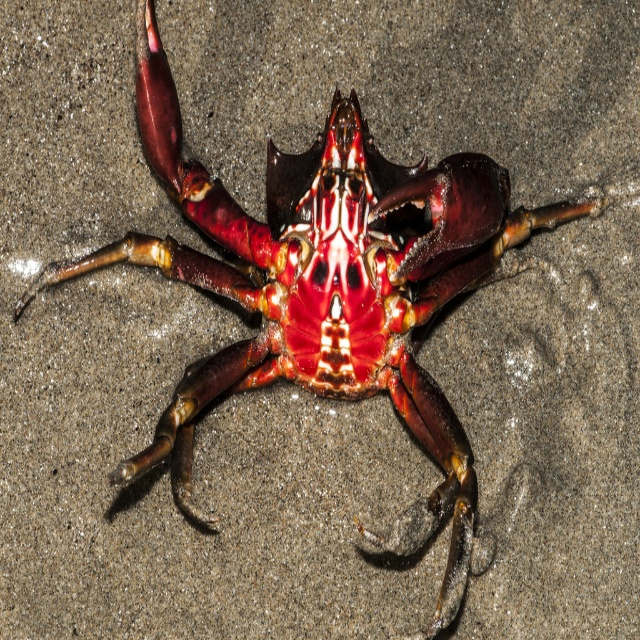Crab: (8, 1, 596, 639)
